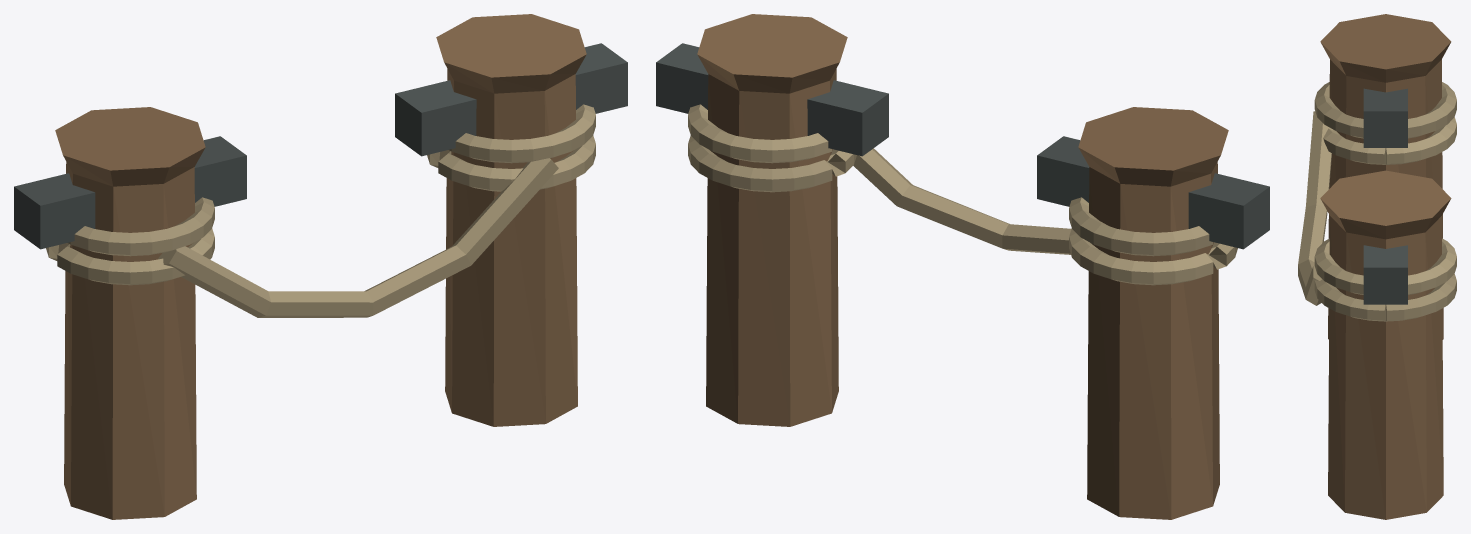
File: mooring-posts.glb
The picture shows the model from 3 angles, left to right: view 1: azimuth 30°, elevation 25°; view 2: azimuth 150°, elevation 25°; view 3: azimuth 270°, elevation 25°; orthographic projection. The views are drawn at different scales.
Parts seen in each view (by area): view 1: mooring-posts; view 2: mooring-posts; view 3: mooring-posts.
Boxes of the visible parts, <box> form: mooring-posts: <box>14,14,627,519</box>; mooring-posts: <box>656,14,1269,519</box>; mooring-posts: <box>1298,14,1456,519</box>.
Size of the model in its own units: 1.48 by 0.85 by 0.412.
